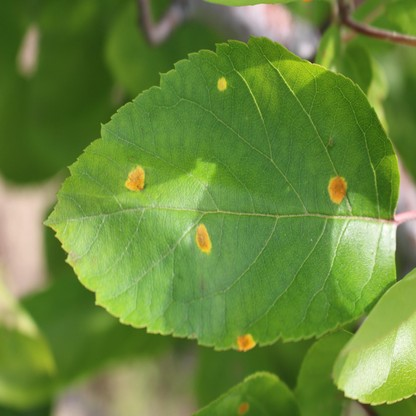rust: (328, 177, 347, 203), (195, 223, 212, 252), (126, 166, 145, 191), (237, 333, 255, 348), (237, 401, 249, 414), (217, 76, 227, 90)
